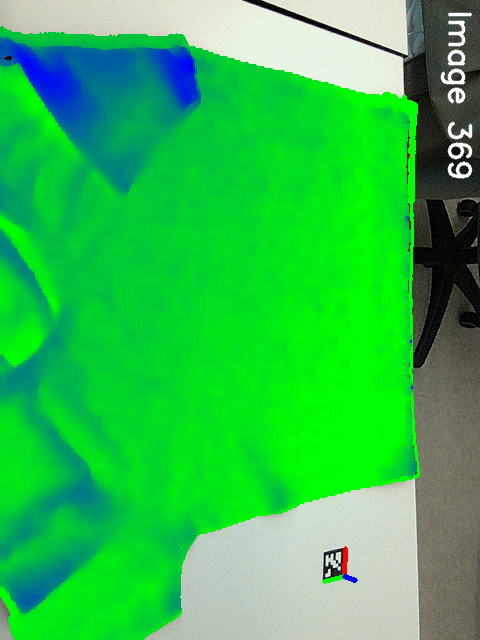V: (89, 154, 150, 205)
